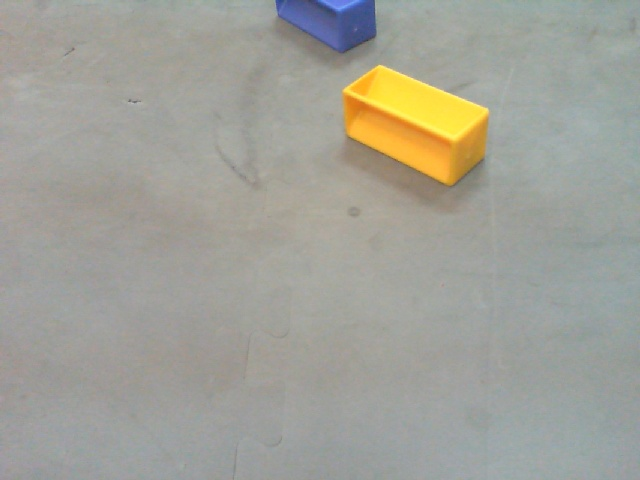BlueSample: (274, 1, 378, 53)
YellowSample: (341, 63, 491, 187)
